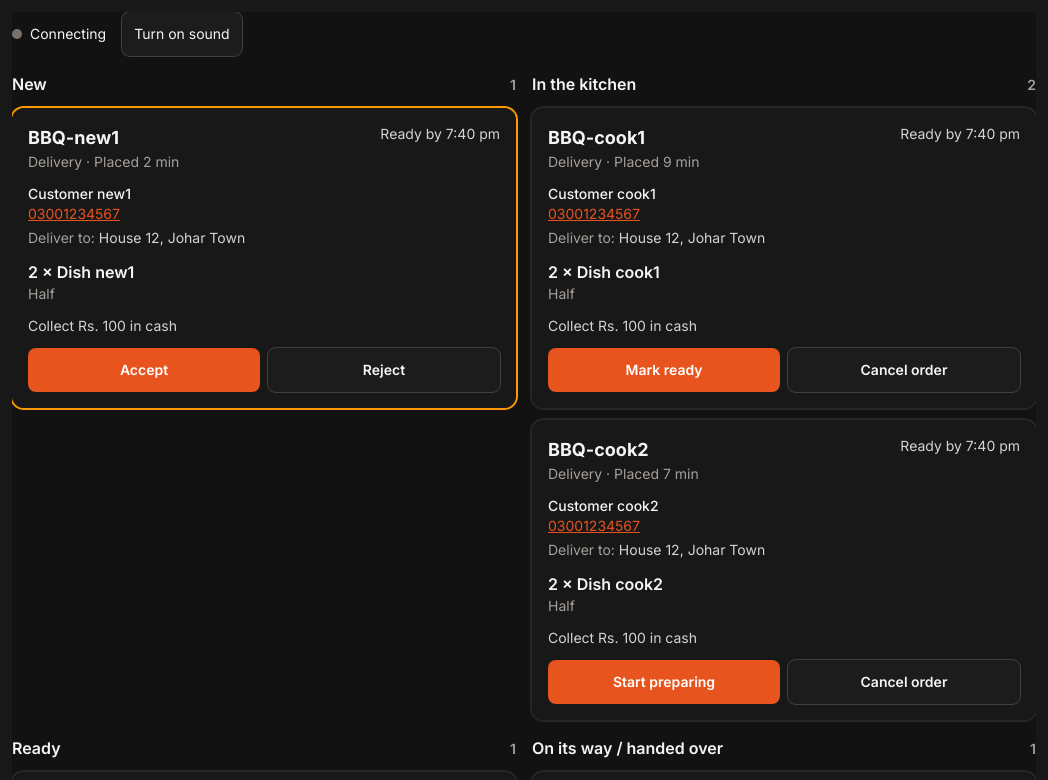
Test: the order board › moving an order › rejects with a reason
Expected: the heading "BBQ-new1" is shown, [28, 127, 119, 148]
Click the button "Reject" at (384, 370), box [268, 348, 500, 392]
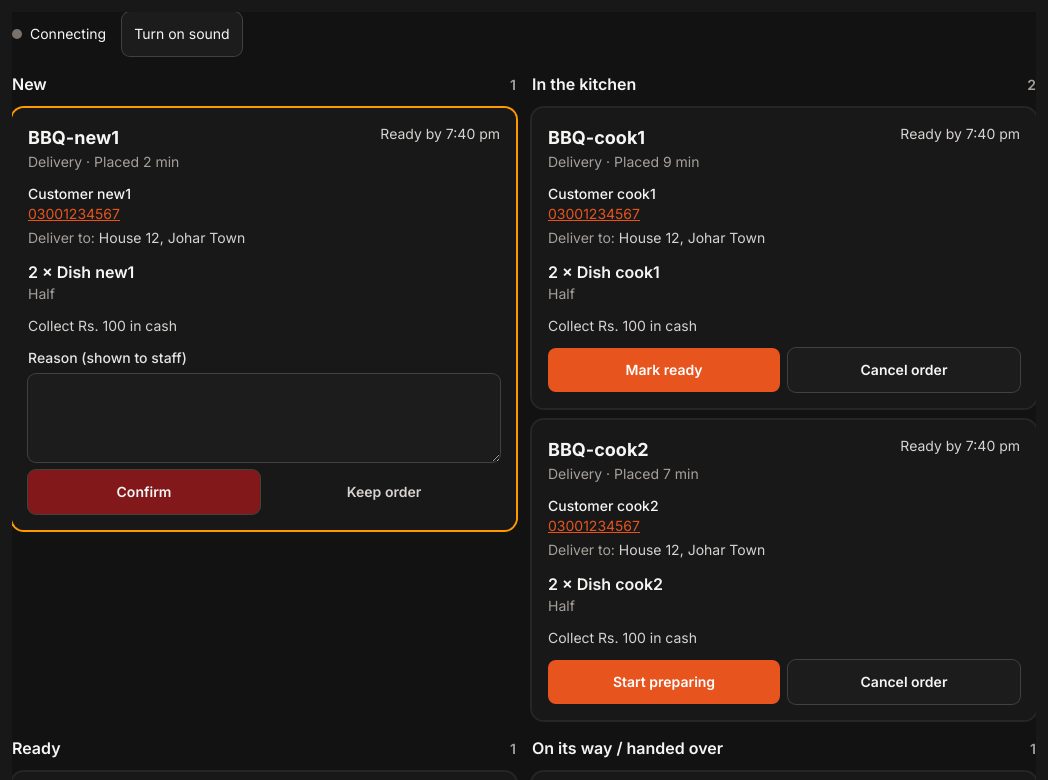
Type "Closing early" into the text box labelled "Reason (shown to staff)" at (264, 418), box [28, 374, 500, 462]
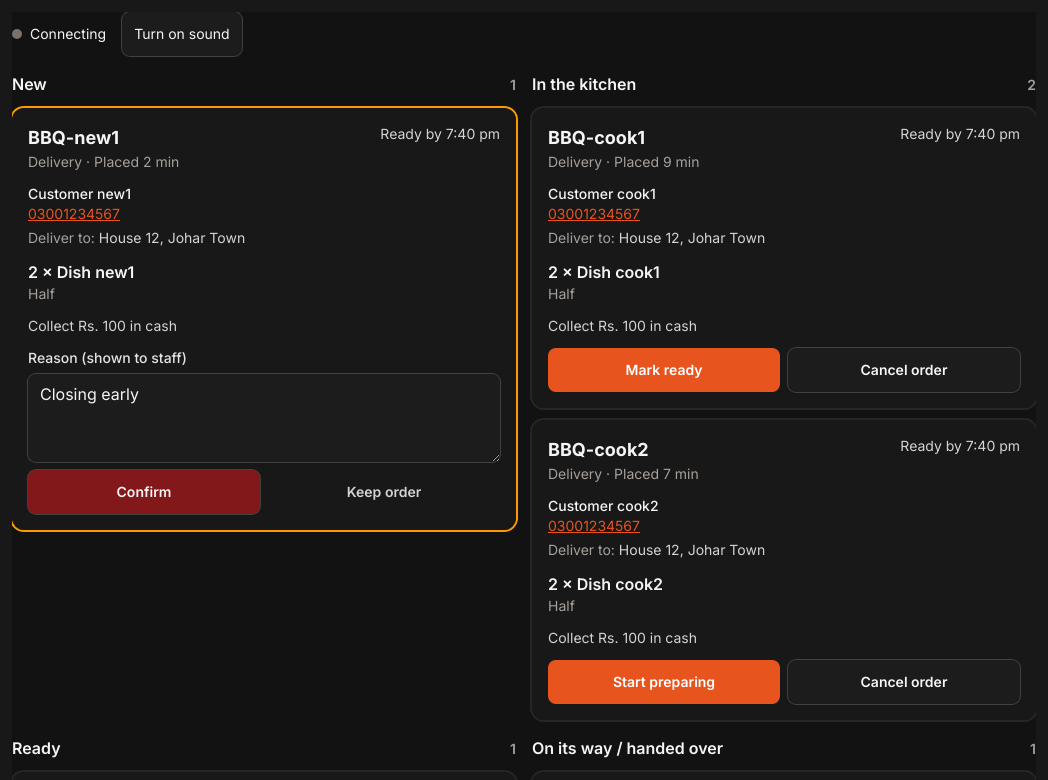
Click the button "Confirm" at (144, 492), box [28, 470, 260, 514]
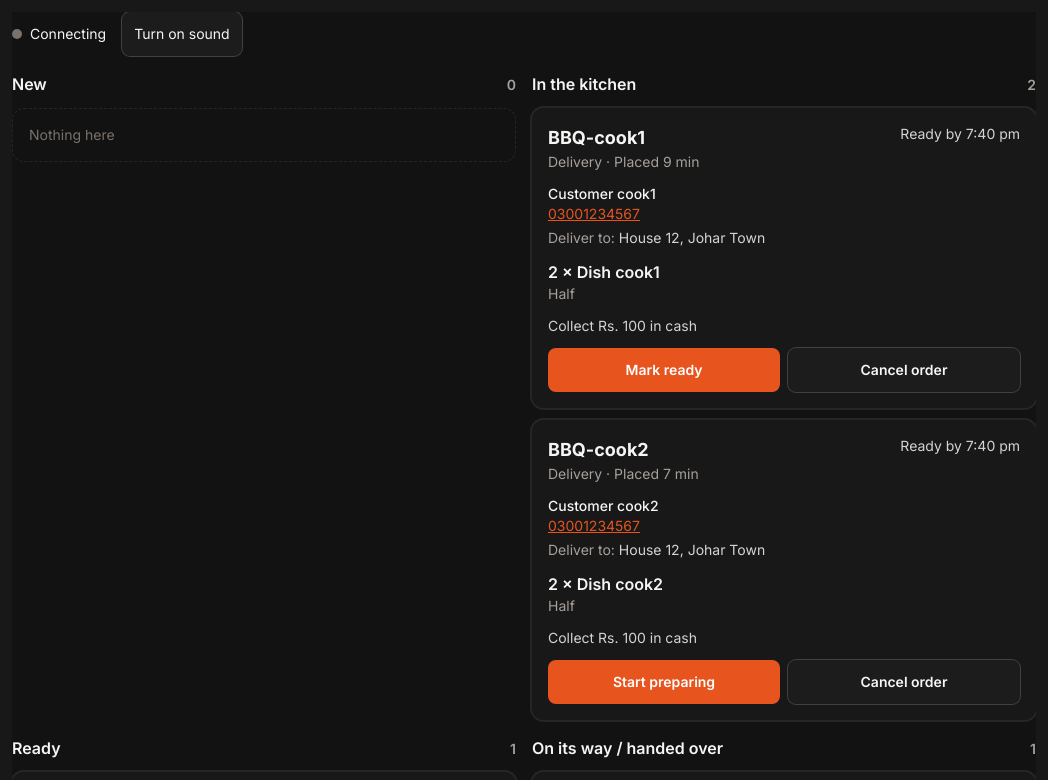
Now the heading "BBQ-new1" is gone
